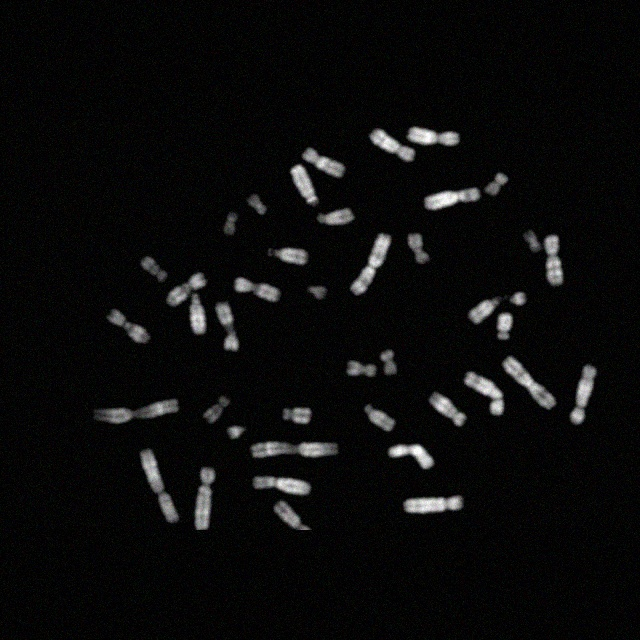chromosome: (140, 450, 178, 524), (504, 358, 554, 410), (351, 233, 391, 295), (96, 399, 178, 423), (462, 372, 504, 416), (251, 441, 337, 462), (570, 364, 598, 424), (369, 128, 415, 162), (166, 273, 206, 307), (107, 312, 149, 344), (427, 394, 467, 426), (195, 466, 215, 530), (424, 188, 482, 210), (252, 474, 310, 496), (302, 146, 344, 176), (233, 276, 279, 302), (388, 444, 434, 470), (403, 495, 462, 515), (273, 500, 309, 532), (290, 163, 318, 204), (217, 300, 239, 352), (544, 234, 564, 286), (362, 403, 396, 433), (466, 296, 499, 324), (408, 128, 459, 146), (190, 292, 206, 336), (141, 256, 167, 282), (266, 247, 308, 263), (318, 208, 354, 226), (408, 234, 429, 264), (204, 397, 228, 423), (484, 172, 508, 196), (346, 360, 376, 378), (283, 406, 311, 424), (496, 312, 512, 341), (247, 195, 267, 218), (381, 350, 397, 378), (522, 232, 542, 252), (508, 288, 528, 308), (223, 212, 239, 236), (228, 422, 246, 440), (306, 284, 326, 300)
